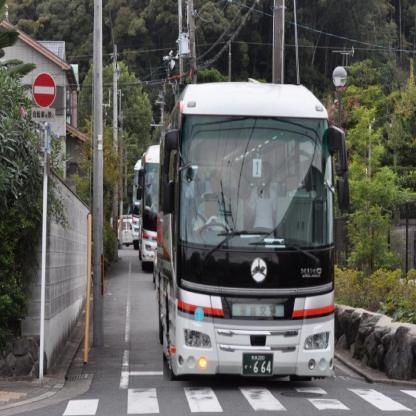bus: (164, 85, 336, 383), (144, 142, 161, 274)
